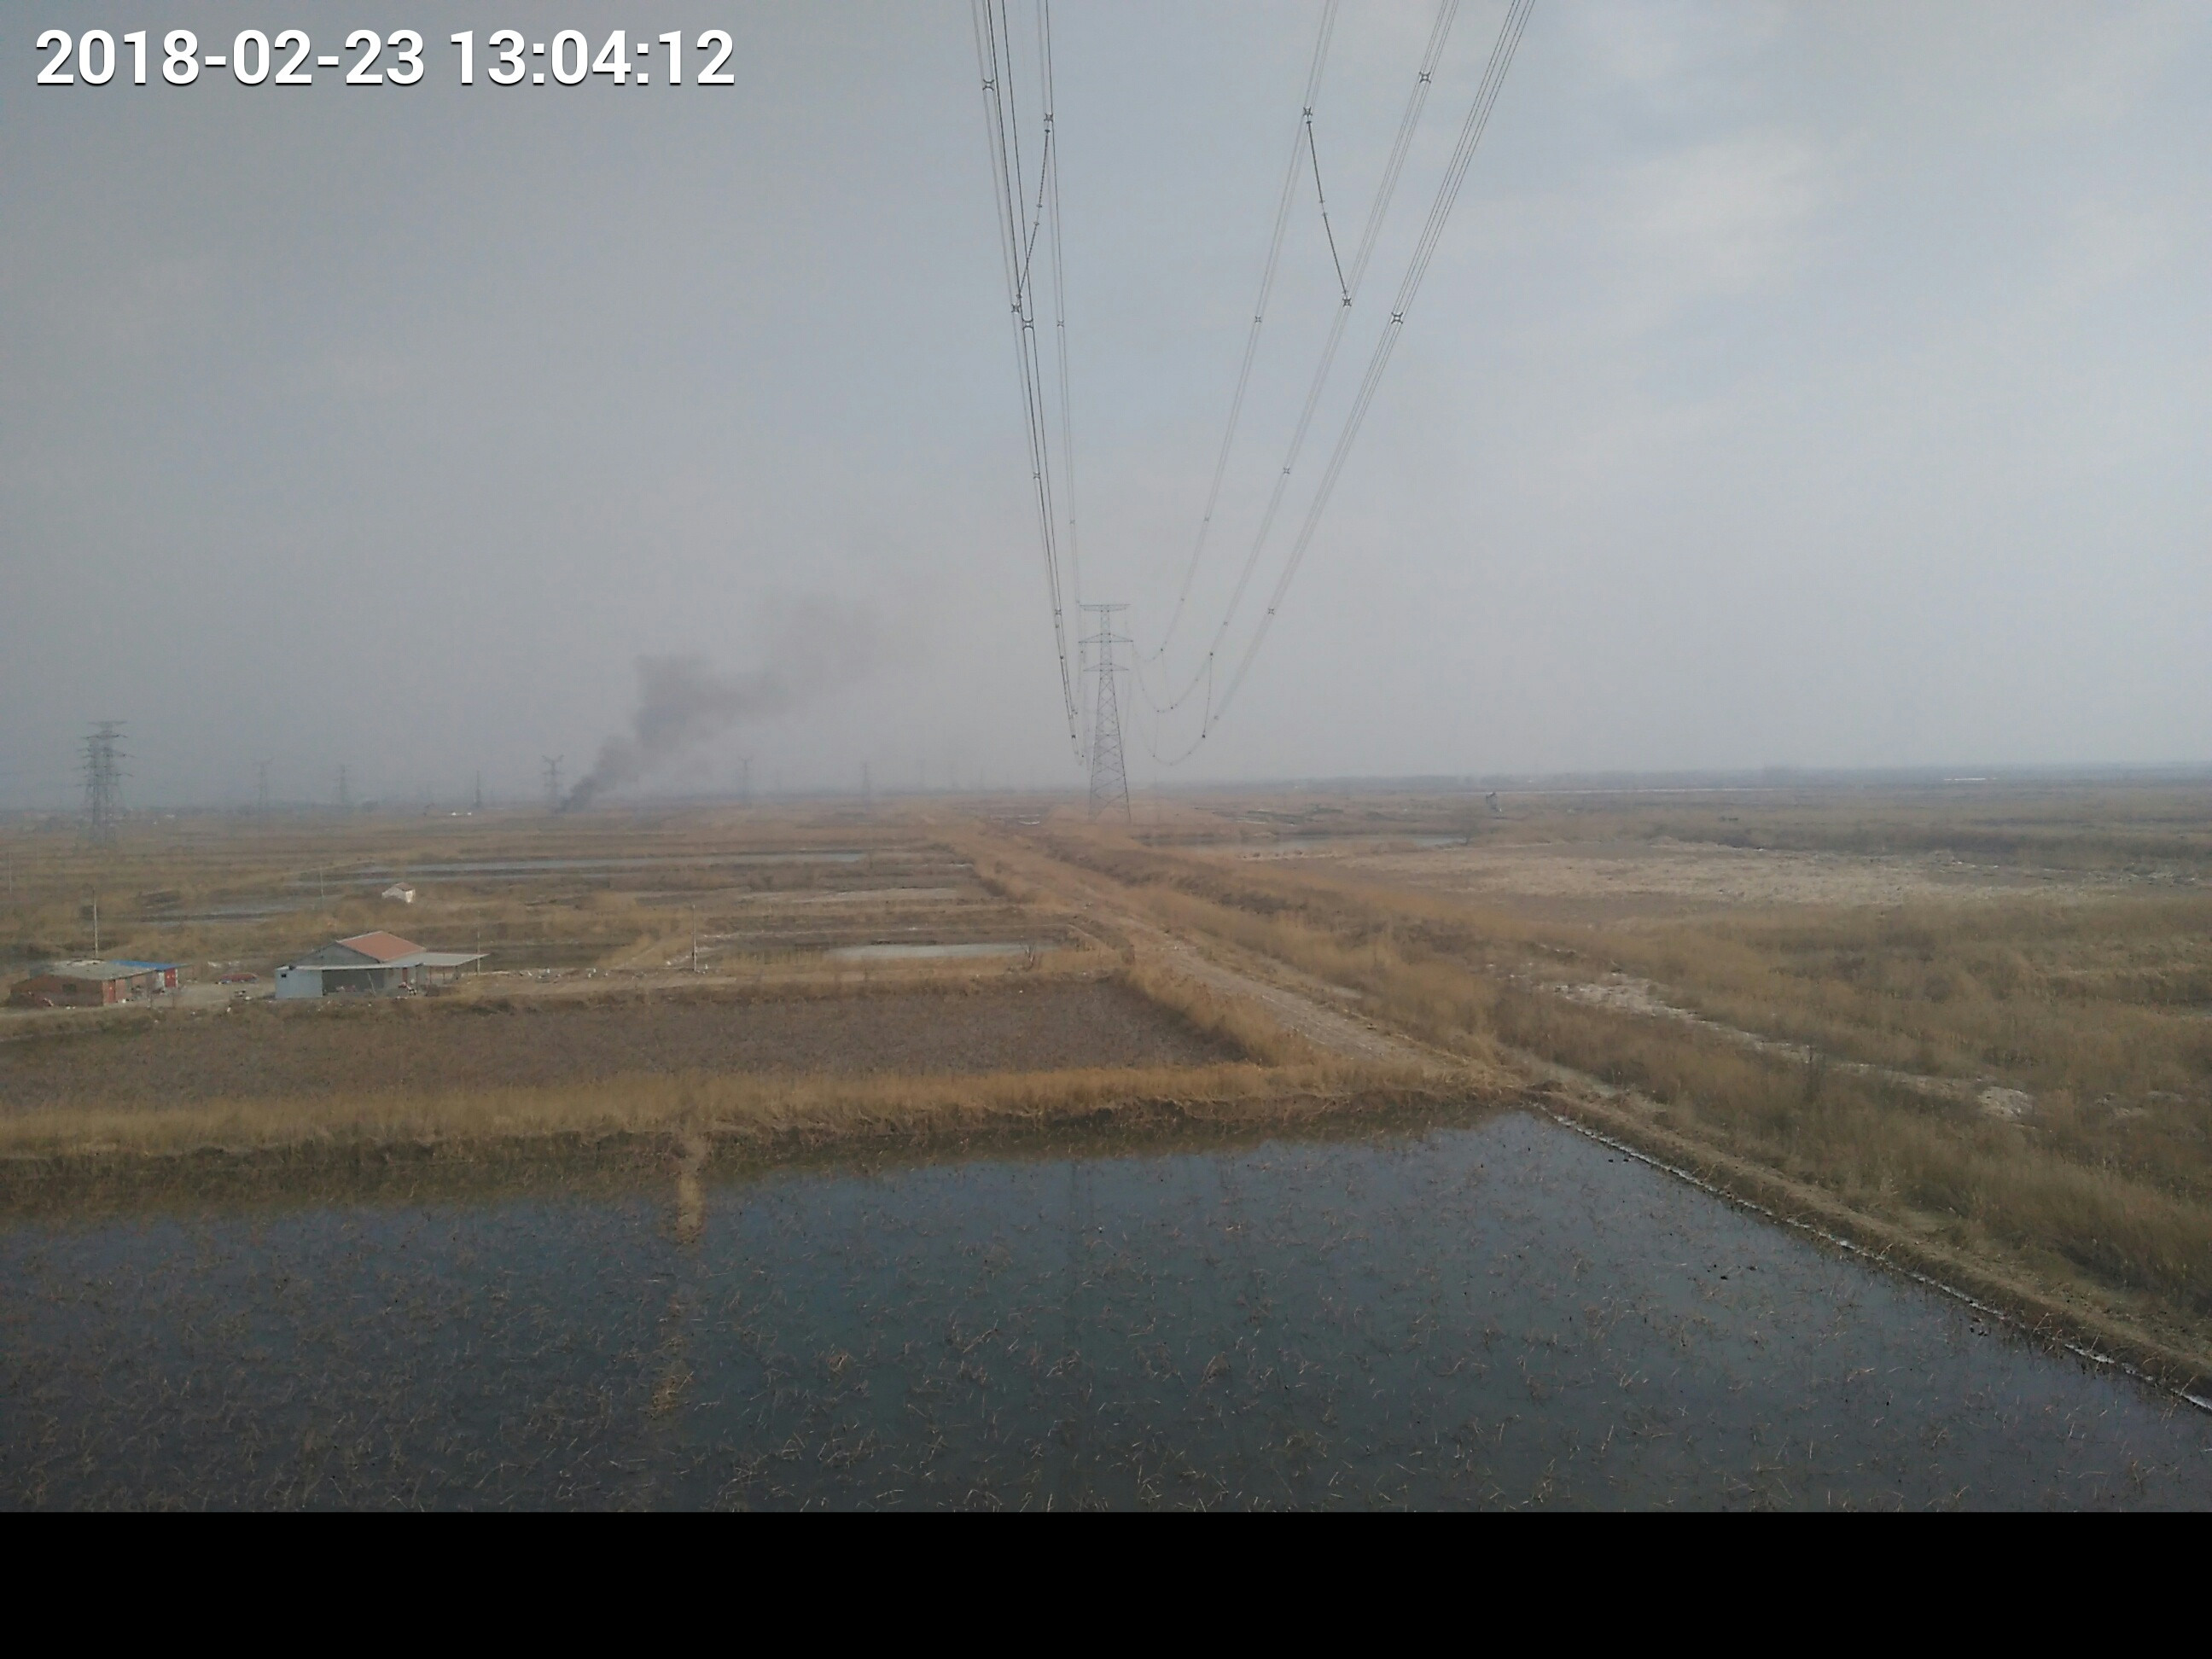YanHuo: (542, 580, 900, 817)
